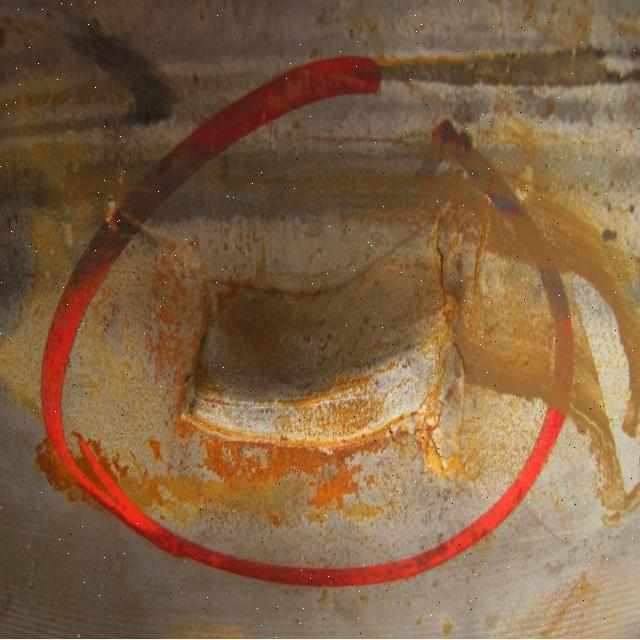boli: (171, 194, 460, 460)
